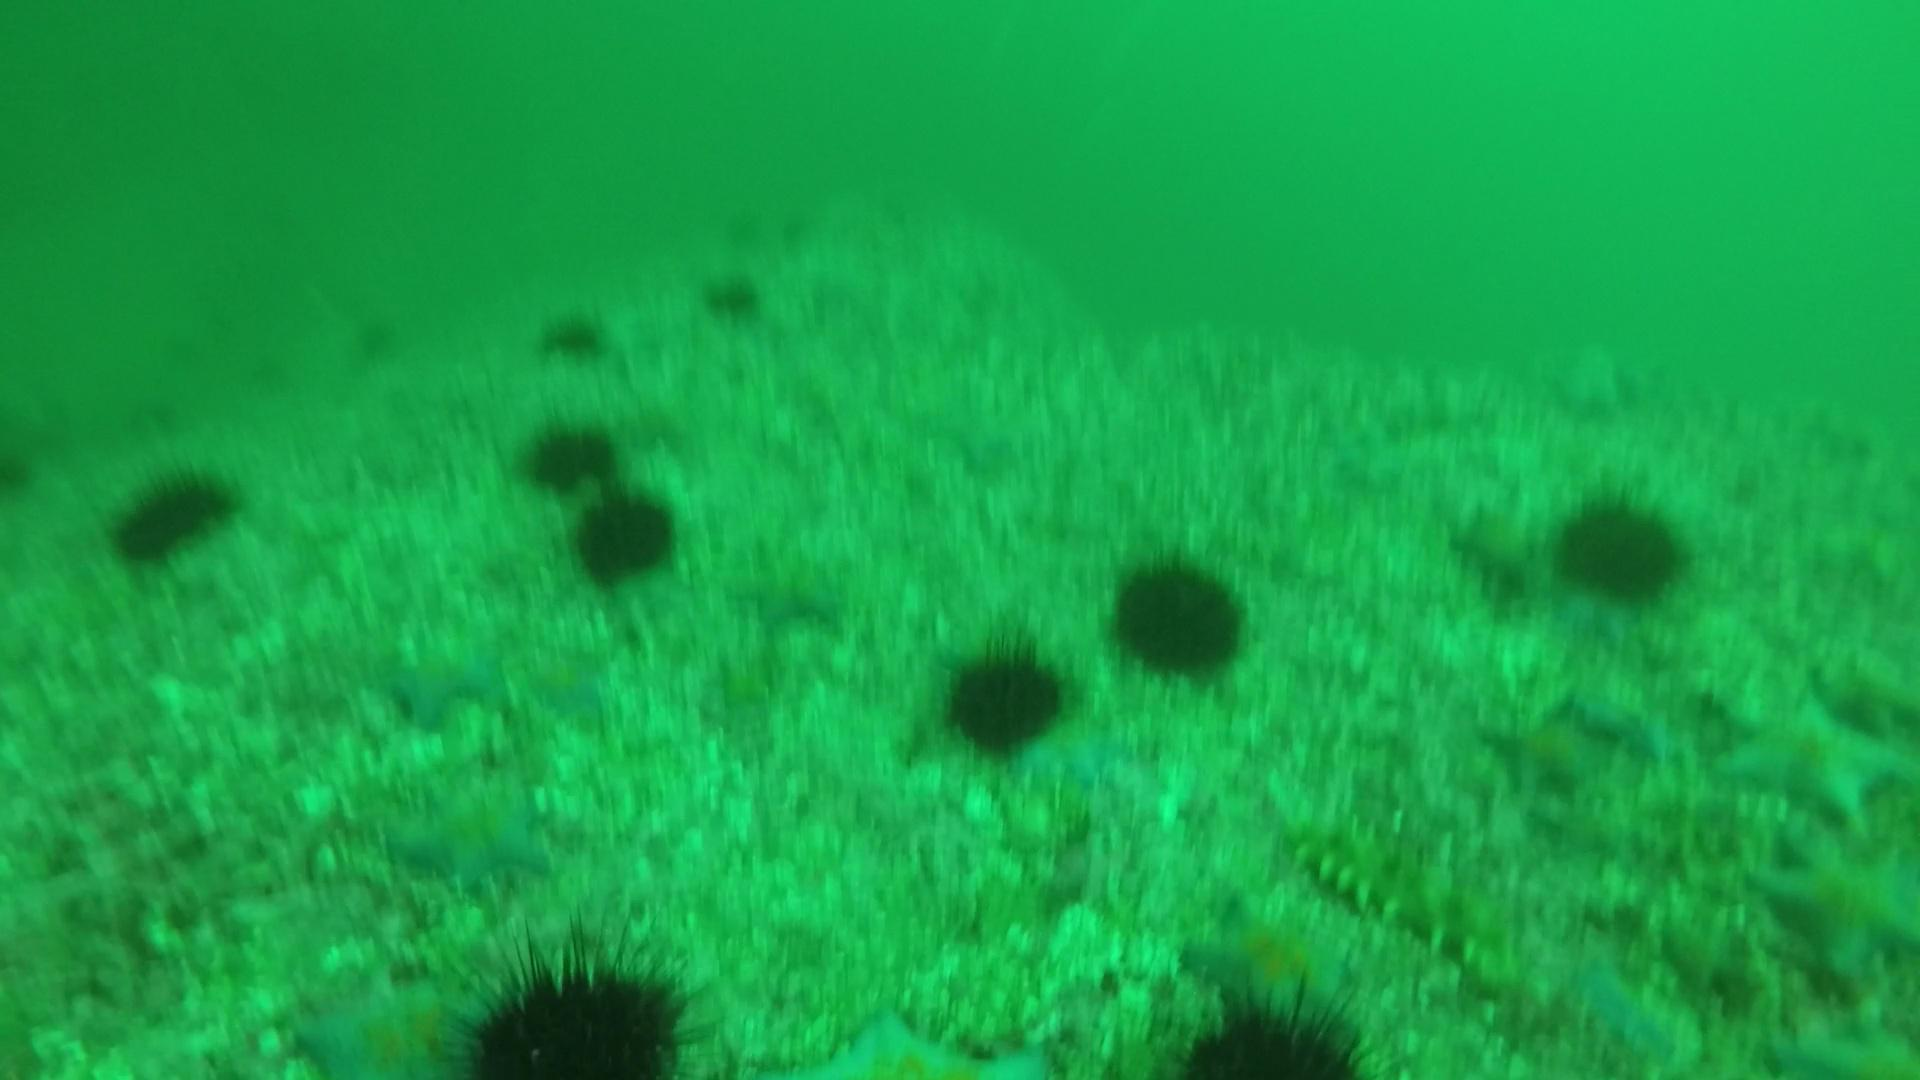urchin: (450, 945, 705, 1080), (1092, 545, 1270, 675), (1160, 981, 1362, 1080), (1553, 491, 1702, 609), (945, 633, 1084, 756), (113, 467, 264, 559), (574, 497, 680, 591), (520, 423, 634, 498), (702, 269, 785, 328), (541, 311, 604, 357)
